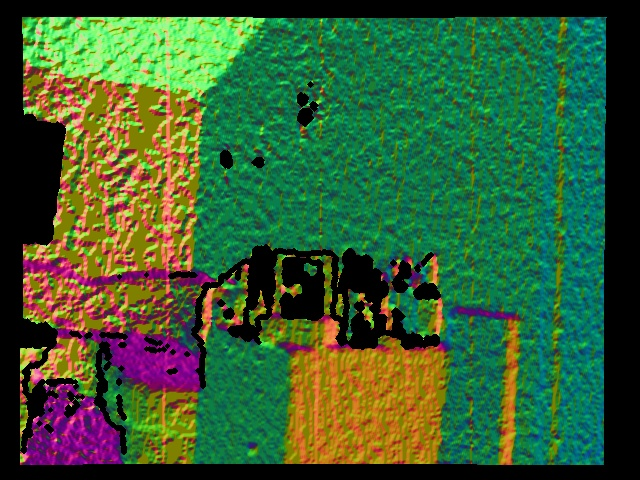station: (258, 250, 341, 349)
